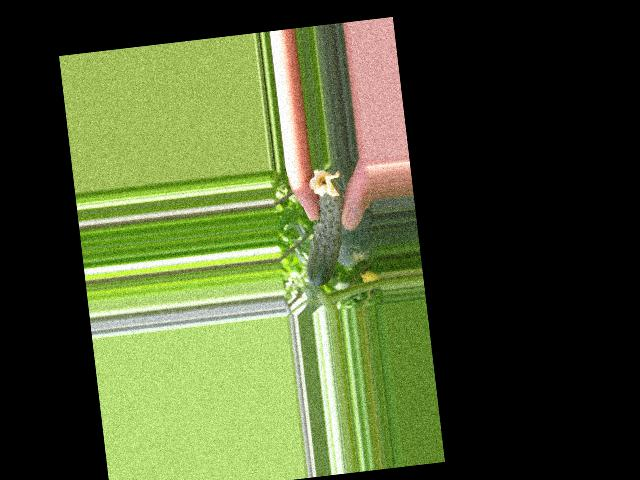cucumber: (295, 168, 352, 287)
